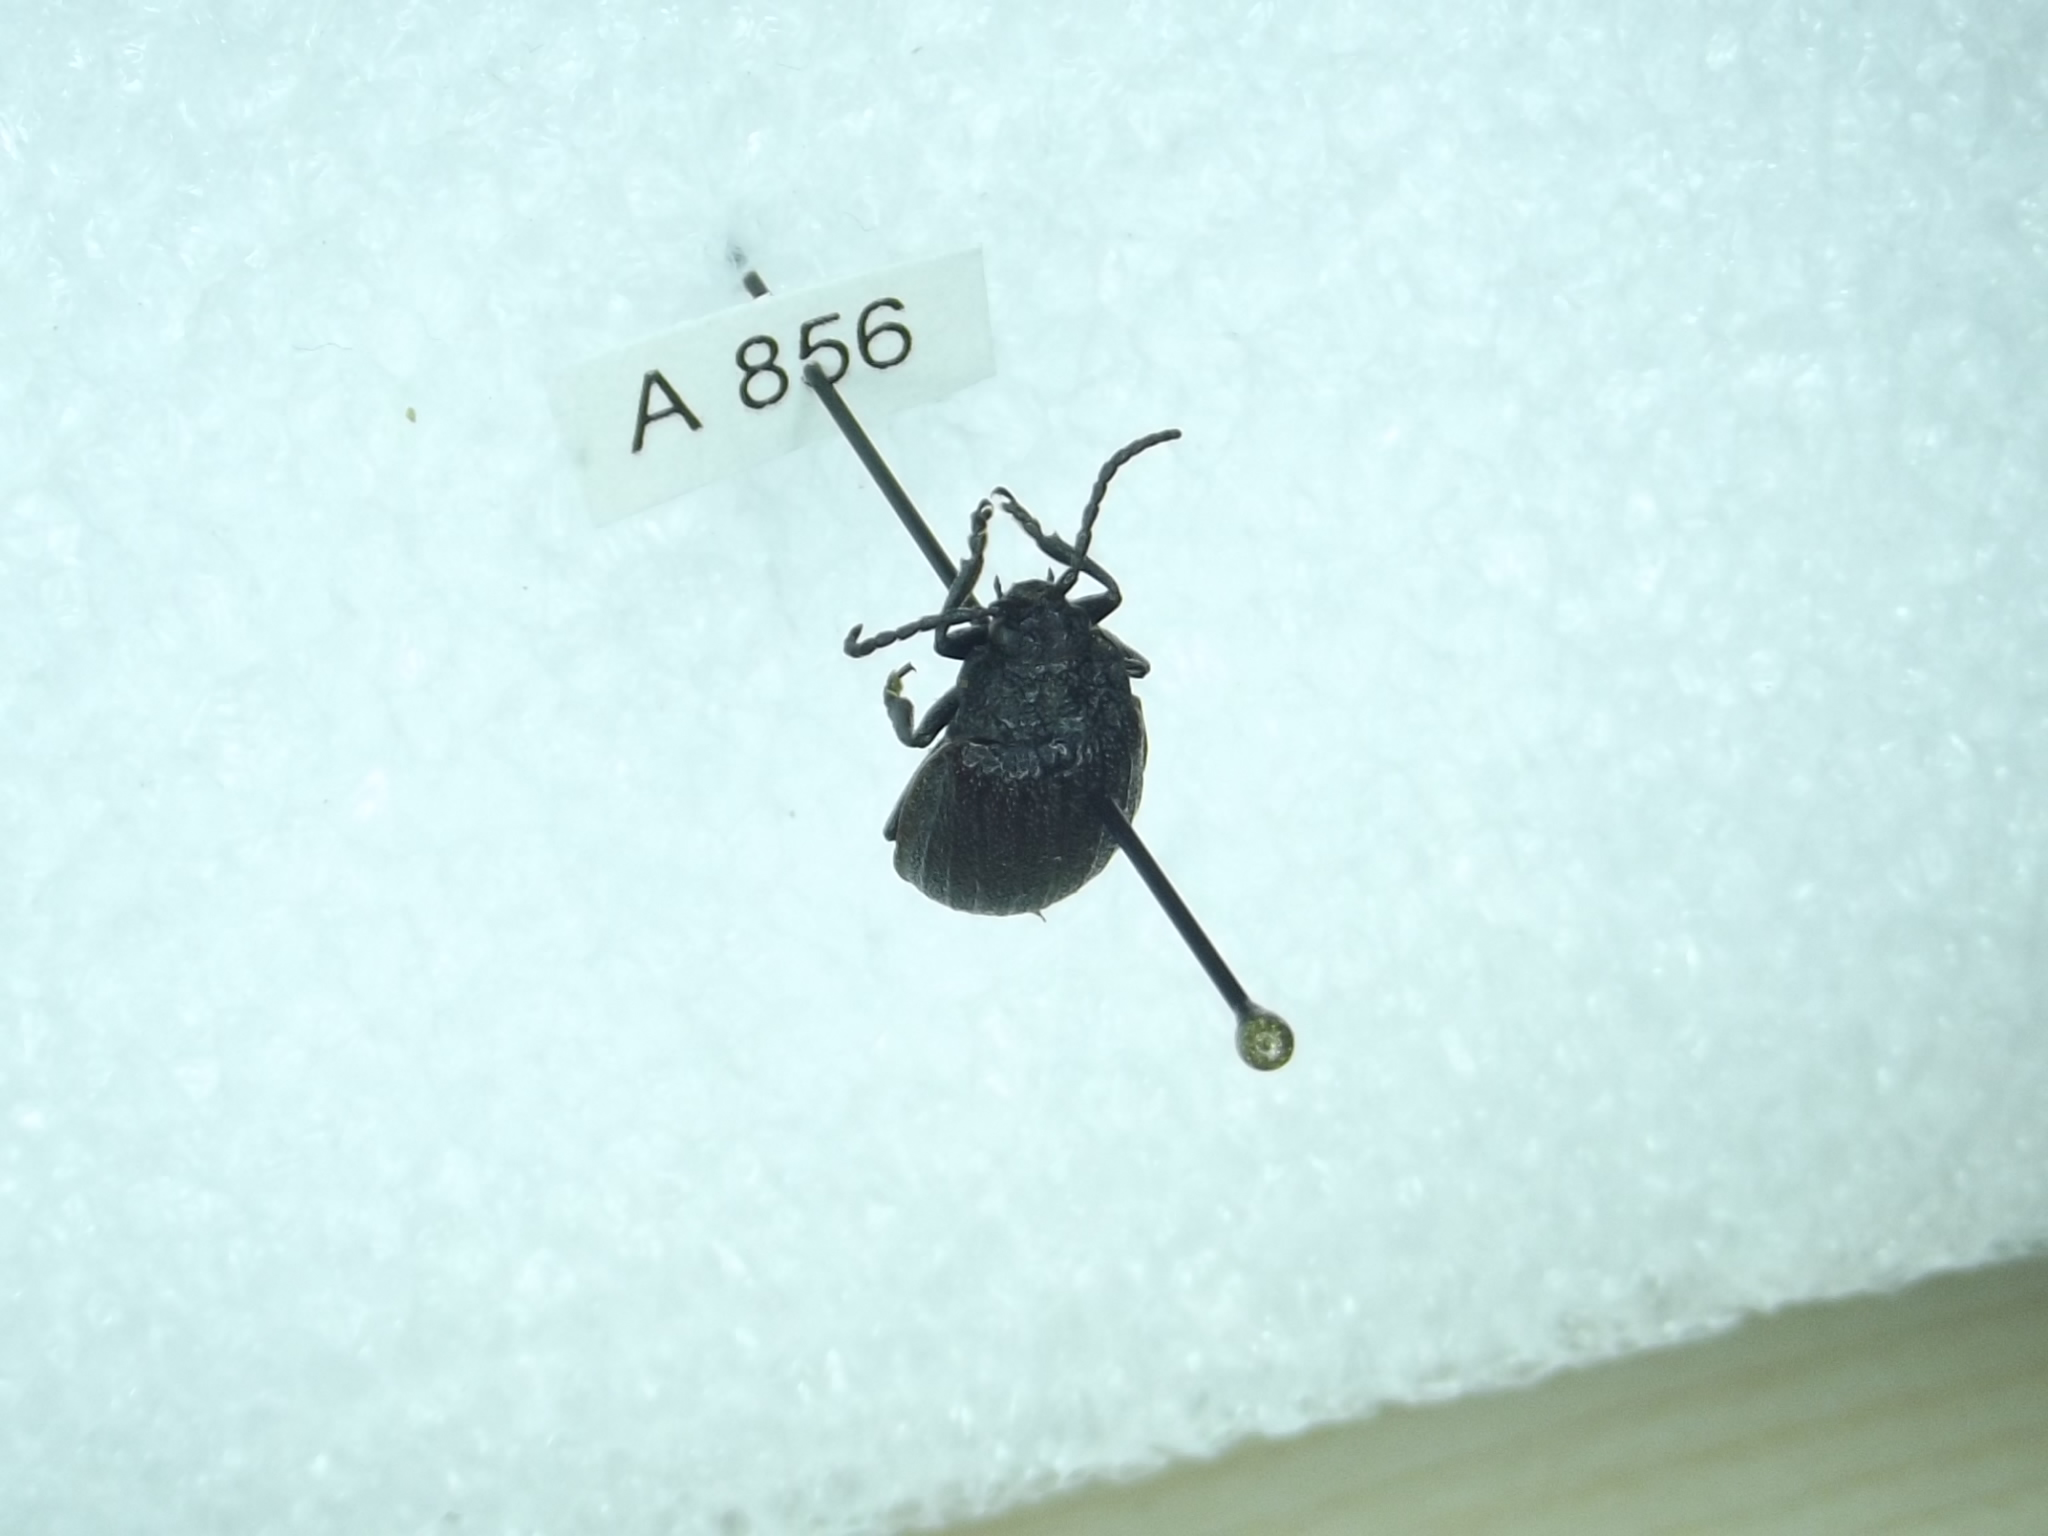Galeruca_tanaceti: (837, 423, 1187, 928)
